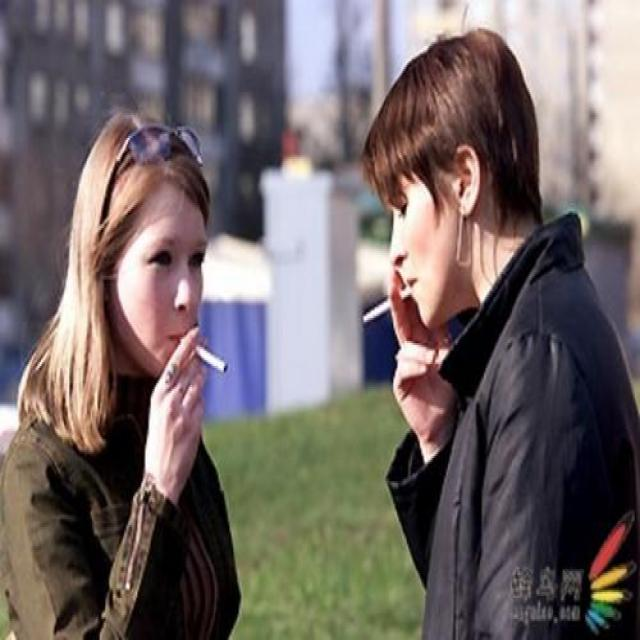cigarette: (357, 286, 415, 324), (185, 337, 230, 376)
